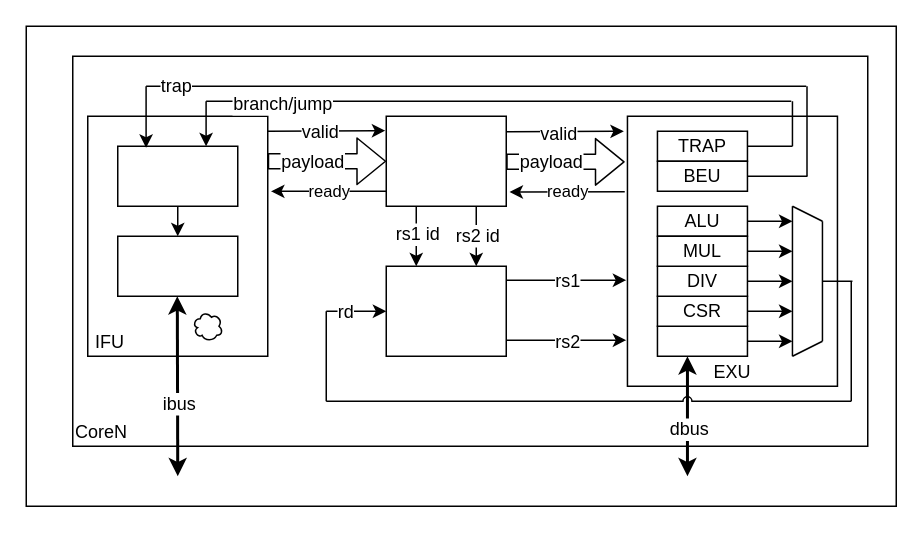
The diagram is 923 pixels wide and 533 high, and some of its shapes have lost their labels. The centre of each missing label's shape, as x and y in pixels:
"ibus ctrl" belongs at point (177, 265).
"IDU" belongs at point (445, 160).
"MEU" belongs at point (701, 340).
"PC" belongs at point (177, 175).
"RegFile" belongs at point (445, 310).
